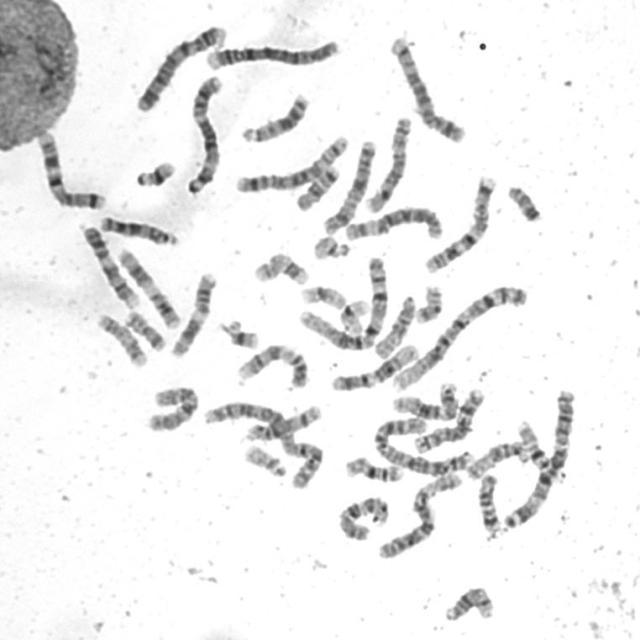A1: (388, 280, 532, 394), (298, 252, 392, 353)
A2: (200, 396, 326, 492), (370, 412, 477, 478)
A3: (499, 383, 578, 531), (182, 68, 228, 196)
B4: (132, 18, 231, 113), (201, 32, 345, 73)
B5: (386, 30, 469, 144), (232, 129, 353, 194)
C10: (144, 380, 202, 433), (335, 491, 392, 543)
C11: (113, 243, 184, 330), (167, 266, 220, 359)
C12: (328, 338, 422, 393), (390, 377, 462, 421)
C6: (375, 467, 465, 561), (341, 202, 446, 243)
C7: (421, 170, 500, 274), (33, 124, 110, 212)
C8: (410, 384, 488, 454), (362, 112, 415, 215)
C9: (79, 220, 144, 310), (232, 339, 312, 390)
D13: (238, 88, 312, 144), (96, 211, 182, 247)
D14: (240, 400, 324, 444), (441, 581, 497, 623)
D15: (371, 290, 419, 360), (463, 436, 532, 482)
E16: (512, 420, 556, 478), (341, 451, 407, 484)
E17: (94, 307, 150, 368), (250, 247, 312, 287)
E18: (292, 160, 344, 213), (475, 468, 504, 534)
F19: (298, 280, 350, 310), (336, 293, 370, 334)
F20: (121, 304, 170, 352), (412, 280, 446, 326)
G21: (132, 155, 179, 189), (221, 314, 263, 351)
G22: (241, 440, 291, 478), (309, 231, 352, 261)
X: (319, 134, 380, 237)
Y: (505, 180, 544, 224)
